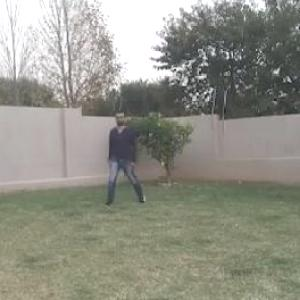follow: (108, 109, 132, 206)
